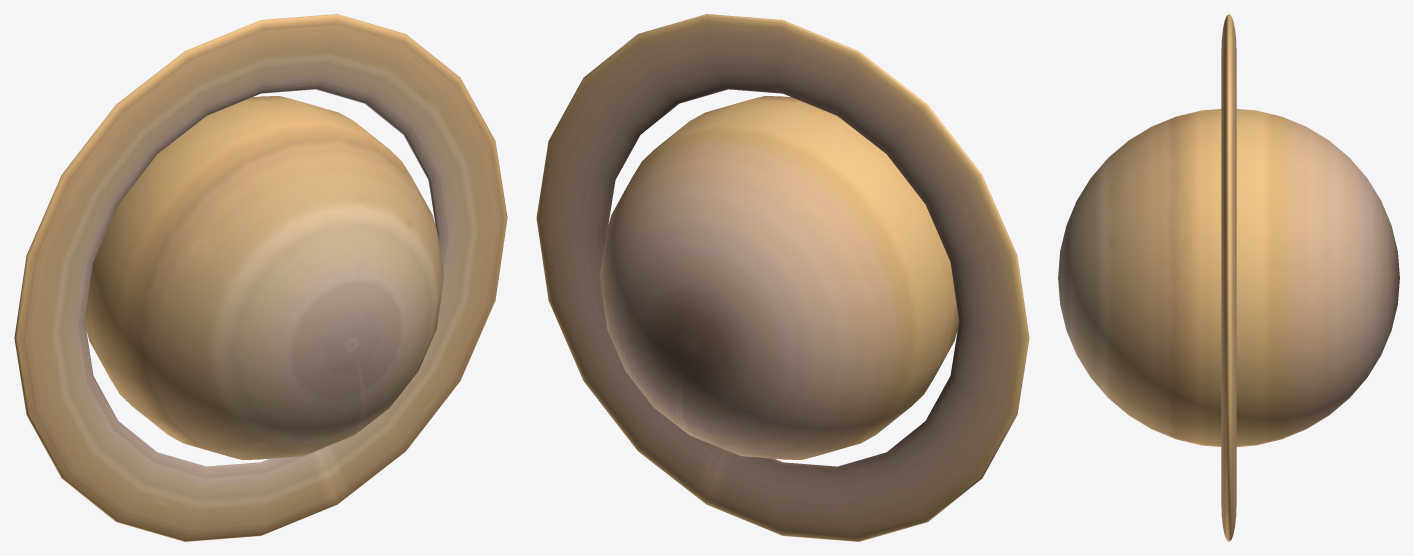
File: Saturn.obj
The picture shows the model from 3 angles, left to right: view 1: azimuth 30°, elevation 25°; view 2: azimuth 150°, elevation 25°; view 3: azimuth 270°, elevation 25°; orthographic projection. The views are drawn at different scales.
Visible parts, largest first — view 1: Saturn, Saturn_Ring.001; view 2: Saturn, Saturn_Ring.001; view 3: Saturn, Saturn_Ring.001.
Part boxes in pixels (bbox=[...]): Saturn: bbox=[85, 96, 443, 459]; Saturn_Ring.001: bbox=[14, 14, 507, 541]; Saturn: bbox=[600, 96, 958, 459]; Saturn_Ring.001: bbox=[536, 14, 1029, 541]; Saturn: bbox=[1058, 109, 1399, 446]; Saturn_Ring.001: bbox=[1221, 14, 1236, 541].
Bounding box in the file's own units: 3.11 × 3.11 × 2.
Materials: 1 (1 with a texture image).
